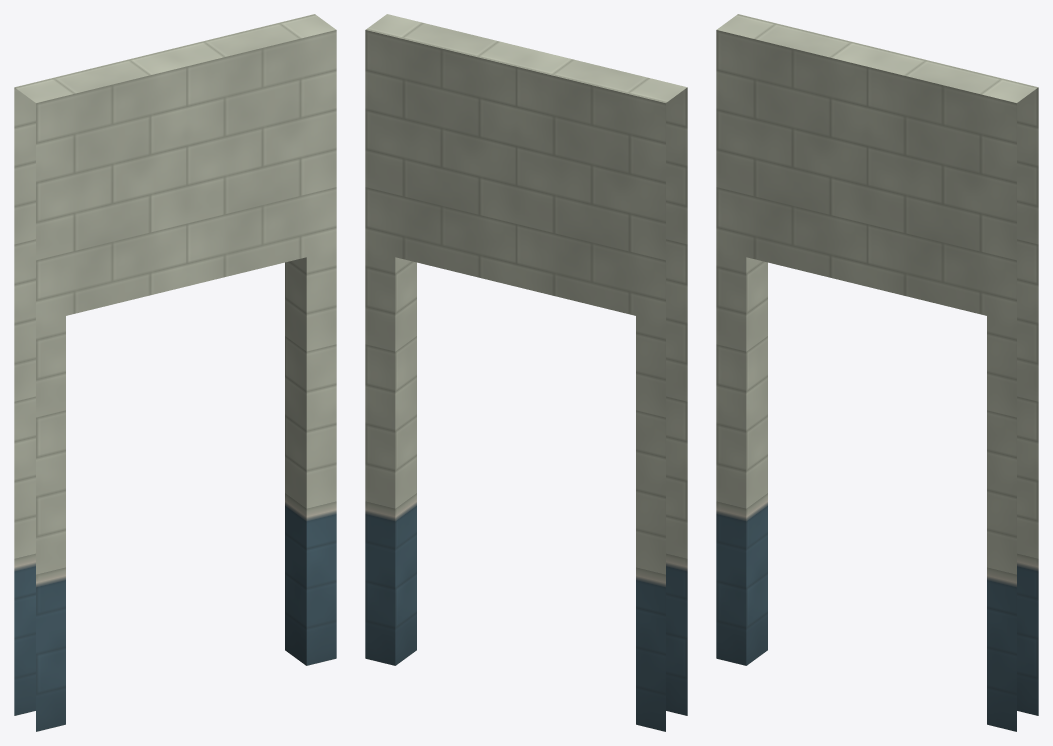
Rendered from wall_prison_wide.fbx.
3 renders of one model, left to right at view 1: azimuth 30°, elevation 25°; view 2: azimuth 150°, elevation 25°; view 3: azimuth 330°, elevation 25°, orthographic.
Parts seen in each view (by area): view 1: wall_prison_wide; view 2: wall_prison_wide; view 3: wall_prison_wide.
Boxes of the visible parts, x1=… form: wall_prison_wide: x1=14, y1=14, x2=336, y2=731; wall_prison_wide: x1=365, y1=14, x2=687, y2=731; wall_prison_wide: x1=716, y1=14, x2=1038, y2=731.
Bounding box in the file's own units: 2 × 4 × 0.25.
1 material, 1 textured.
